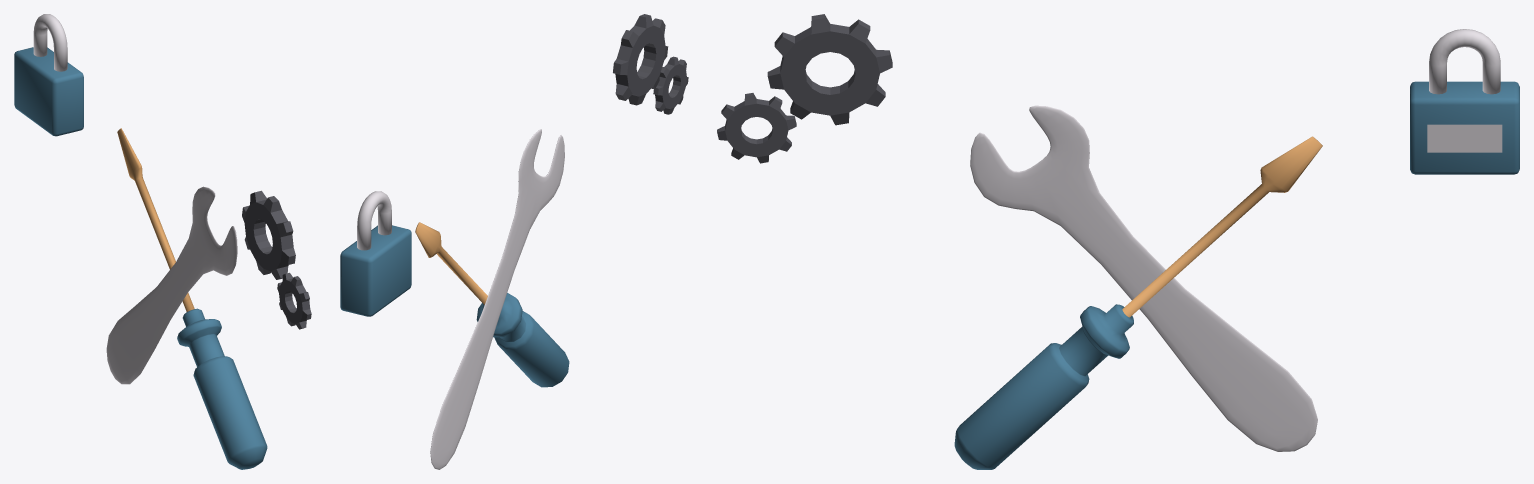
3 renders of one model, left to right at view 1: azimuth 30°, elevation 25°; view 2: azimuth 150°, elevation 25°; view 3: azimuth 270°, elevation 25°, orthographic. The views are drawn at different scales.
Parts seen in each view (by area): view 1: Schlossring; view 2: Schlossring; view 3: Schlossring.
Boxes of the visible parts, <box> form: Schlossring: <box>14,14,311,469</box>; Schlossring: <box>340,14,688,469</box>; Schlossring: <box>717,14,1519,469</box>.
Size of the model in its own units: 0.0275 by 0.1426 by 0.2414.
